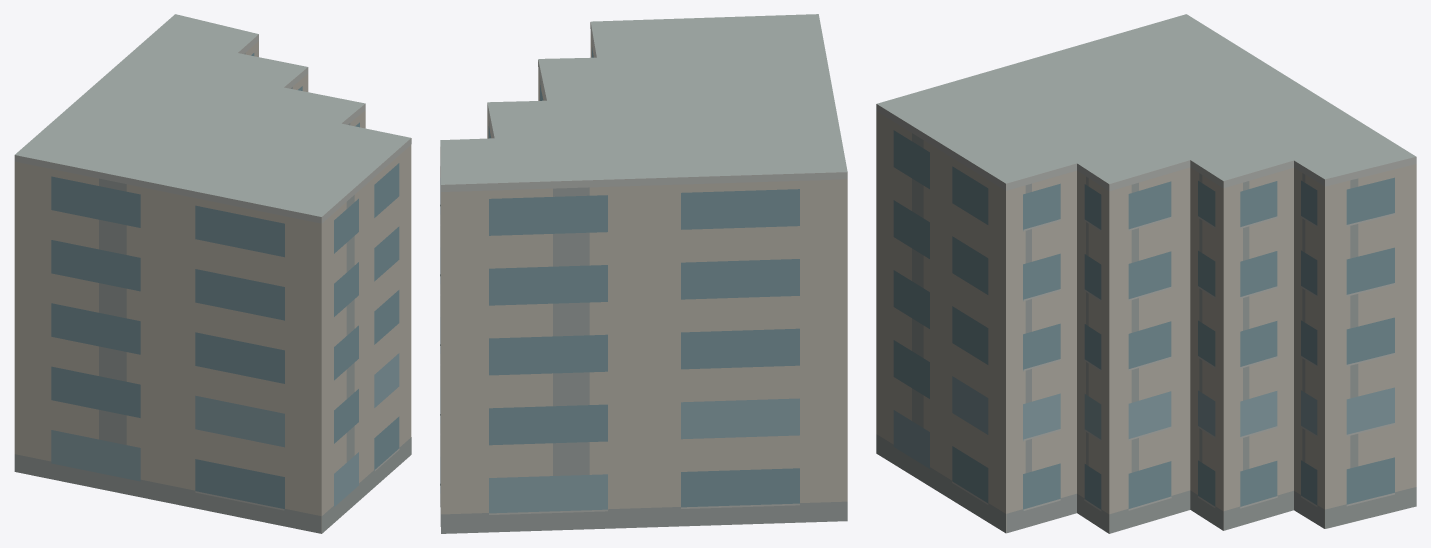
The model's file is survey-upis-32848621.glb.
The picture shows the model from 3 angles, left to right: view 1: azimuth 30°, elevation 25°; view 2: azimuth 150°, elevation 25°; view 3: azimuth 270°, elevation 25°; orthographic projection. The views are drawn at different scales.
Visible parts, largest first — view 1: survey-upis-32848621.tmp; view 2: survey-upis-32848621.tmp; view 3: survey-upis-32848621.tmp.
Part boxes in pixels (left/top/right/bottom): survey-upis-32848621.tmp: left=14, top=14, right=411, bottom=533; survey-upis-32848621.tmp: left=440, top=14, right=847, bottom=533; survey-upis-32848621.tmp: left=876, top=14, right=1416, bottom=533.
Bounding box in the file's own units: 12.33 × 11.8 × 16.53.
